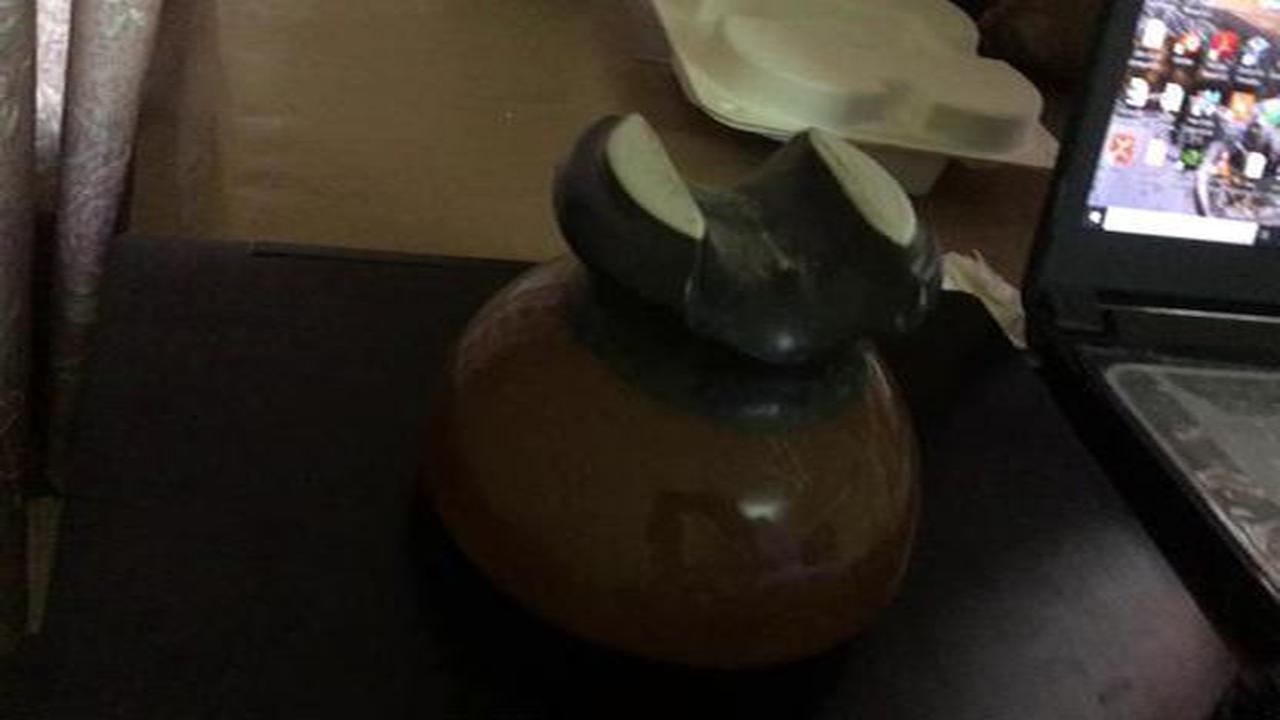insulator_pin: (394, 96, 979, 682)
